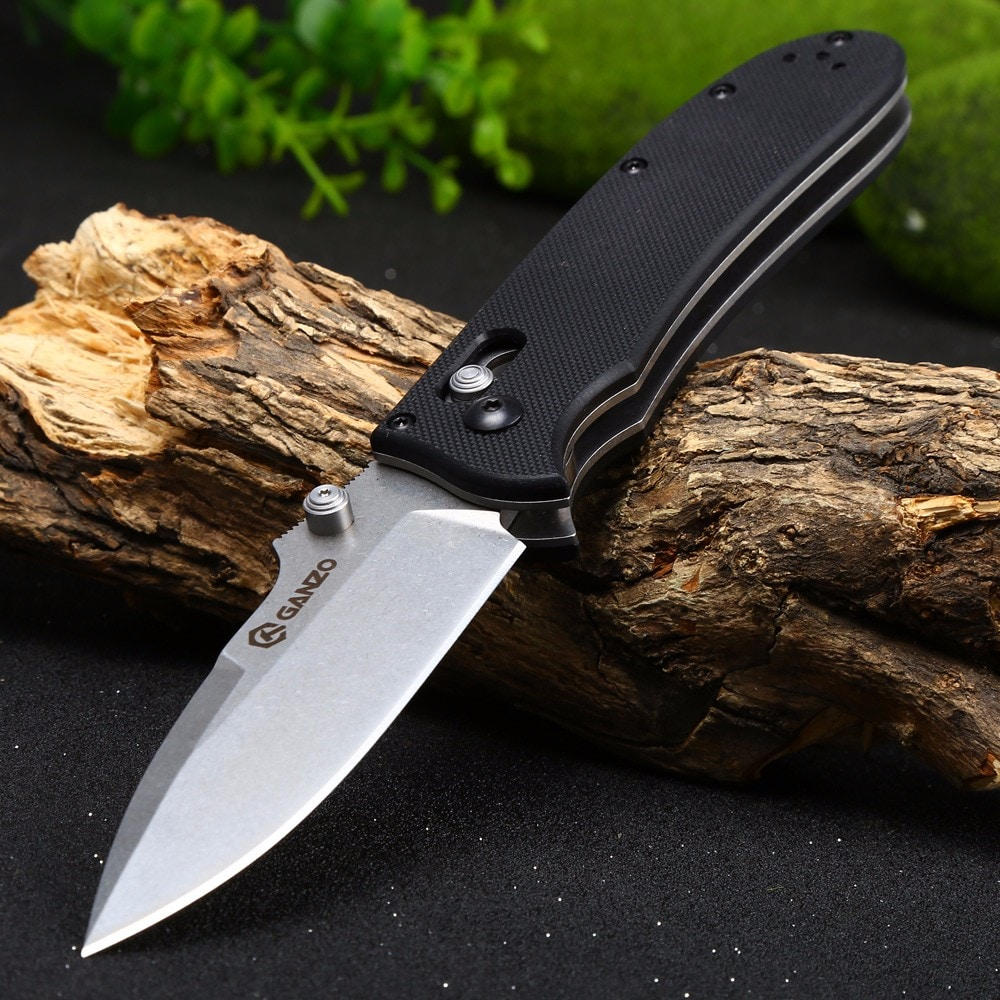knief: (68, 27, 927, 983)
